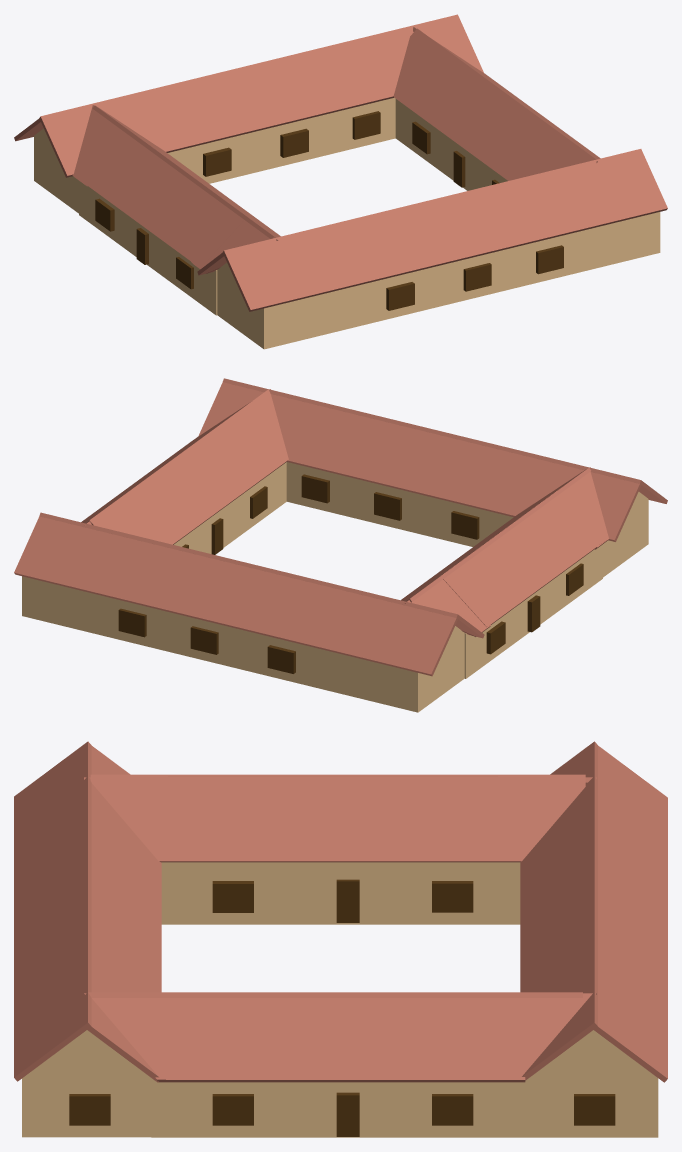
Rendered from villa.obj.
The picture shows the model from 3 angles, top to bottom: view 1: azimuth 30°, elevation 25°; view 2: azimuth 150°, elevation 25°; view 3: azimuth 270°, elevation 25°; orthographic projection. The views are drawn at different scales.
Visible parts, largest first — view 1: mesh1184463303.001, mesh1184463303, mesh1224864500.002, mesh1333885264, mesh1333885264.002_mesh1333885264.004, mesh1224864500, mesh622405046.002, mesh622405046, mesh1333885264.001, mesh1912053035.001_mesh1912053035.005, mesh1912053035.002_mesh1912053035.006, mesh387551679.001 (+7 smaller); view 2: mesh1509111848, mesh1509111848.001, mesh1224864500, mesh1333885264, mesh1333885264.002_mesh1333885264.004, mesh1224864500.002, mesh622405046.002, mesh622405046, mesh1184463303, mesh1184463303.001, mesh1333885264.001, mesh1912053035.001_mesh1912053035.005 (+8 smaller); view 3: mesh1333885264.001, mesh1134373055, mesh1184463303.001, mesh1509111848, mesh622405046.002, mesh622405046, mesh1184463303, mesh1509111848.001, mesh1224864500, mesh1224864500.002, mesh1912053035.004, mesh1333885264 (+9 smaller).
Boxes of the visible parts, x1,y1,x2,y2 form: mesh1184463303.001: [222, 149, 667, 311]; mesh1184463303: [39, 14, 483, 177]; mesh1224864500.002: [217, 212, 660, 349]; mesh1333885264: [393, 28, 595, 180]; mesh1333885264.002_mesh1333885264.004: [81, 129, 243, 267]; mesh1224864500: [34, 97, 395, 213]; mesh622405046.002: [79, 181, 217, 315]; mesh622405046: [395, 99, 507, 190]; mesh1333885264.001: [92, 105, 280, 238]; mesh1912053035.001_mesh1912053035.005: [72, 105, 124, 186]; mesh1912053035.002_mesh1912053035.006: [191, 220, 277, 273]; mesh387551679.001: [203, 147, 231, 176]; mesh1509111848: [14, 516, 457, 676]; mesh1509111848.001: [198, 382, 641, 541]; mesh1224864500: [22, 576, 464, 712]; mesh1333885264: [87, 389, 288, 544]; mesh1333885264.002_mesh1333885264.004: [443, 491, 606, 626]; mesh1224864500.002: [286, 462, 648, 577]; mesh622405046.002: [464, 544, 602, 678]; mesh622405046: [173, 462, 286, 553]; mesh1184463303: [39, 512, 484, 638]; mesh1184463303.001: [222, 378, 667, 503]; mesh1333885264.001: [401, 468, 590, 602]; mesh1912053035.001_mesh1912053035.005: [405, 579, 490, 636]; mesh1333885264.001: [90, 774, 585, 862]; mesh1134373055: [166, 998, 525, 1082]; mesh1184463303.001: [14, 741, 91, 1081]; mesh1509111848: [592, 745, 667, 1082]; mesh622405046.002: [161, 862, 520, 924]; mesh622405046: [151, 1078, 528, 1137]; mesh1184463303: [520, 741, 597, 1080]; mesh1509111848.001: [86, 746, 161, 1082]; mesh1224864500: [528, 1030, 658, 1137]; mesh1224864500.002: [22, 1030, 151, 1137]; mesh1912053035.004: [84, 993, 165, 1082]; mesh1333885264: [88, 992, 582, 997].
Bounding box in the file's own units: 1.46 × 0.2871 × 1.43.
